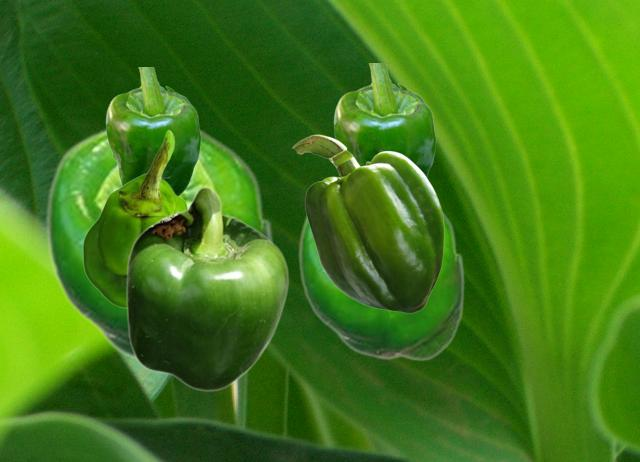bell_pepper: (44, 125, 274, 364), (125, 186, 288, 391), (292, 134, 443, 312), (297, 207, 464, 360), (82, 129, 187, 307), (105, 67, 200, 195), (333, 63, 435, 176)
